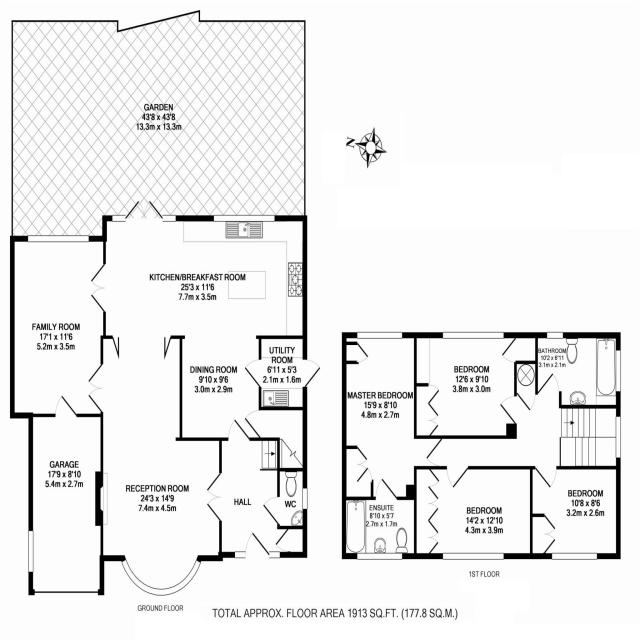DOOR: (245, 531, 270, 558), (534, 465, 557, 489), (425, 437, 443, 467), (499, 395, 517, 425), (375, 477, 398, 500), (537, 372, 560, 395), (227, 418, 250, 441), (262, 496, 280, 525), (446, 466, 469, 488), (55, 395, 77, 417)
DOUBLE DOOR: (203, 467, 223, 524), (89, 259, 107, 316), (124, 199, 164, 222), (87, 361, 104, 415)
ROOM: (86, 199, 307, 599), (10, 235, 107, 419), (342, 332, 443, 501), (414, 331, 538, 439), (414, 466, 533, 559), (530, 466, 621, 559)
WINDOW: (121, 558, 202, 597), (442, 552, 504, 560), (442, 331, 504, 339), (213, 214, 275, 222), (28, 235, 89, 243), (356, 552, 403, 560), (356, 331, 403, 339), (551, 552, 597, 560), (615, 416, 621, 458), (616, 350, 621, 392), (161, 213, 176, 222), (302, 488, 308, 510), (547, 332, 563, 339), (112, 214, 126, 222)
